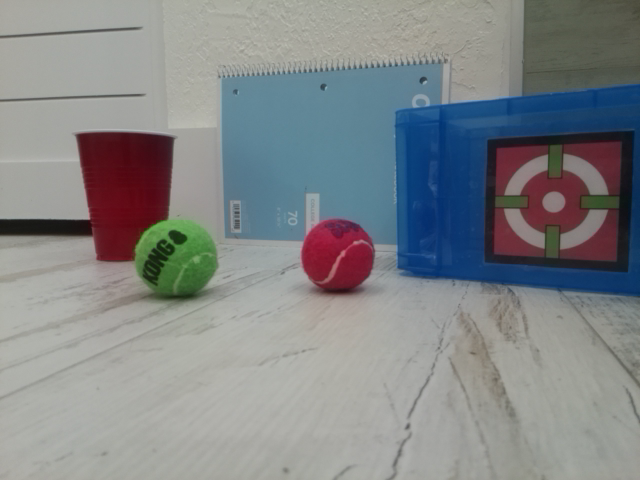drop-bin: (484, 129, 637, 271)
green-ball: (133, 216, 220, 300)
red-ball: (300, 217, 376, 293)
